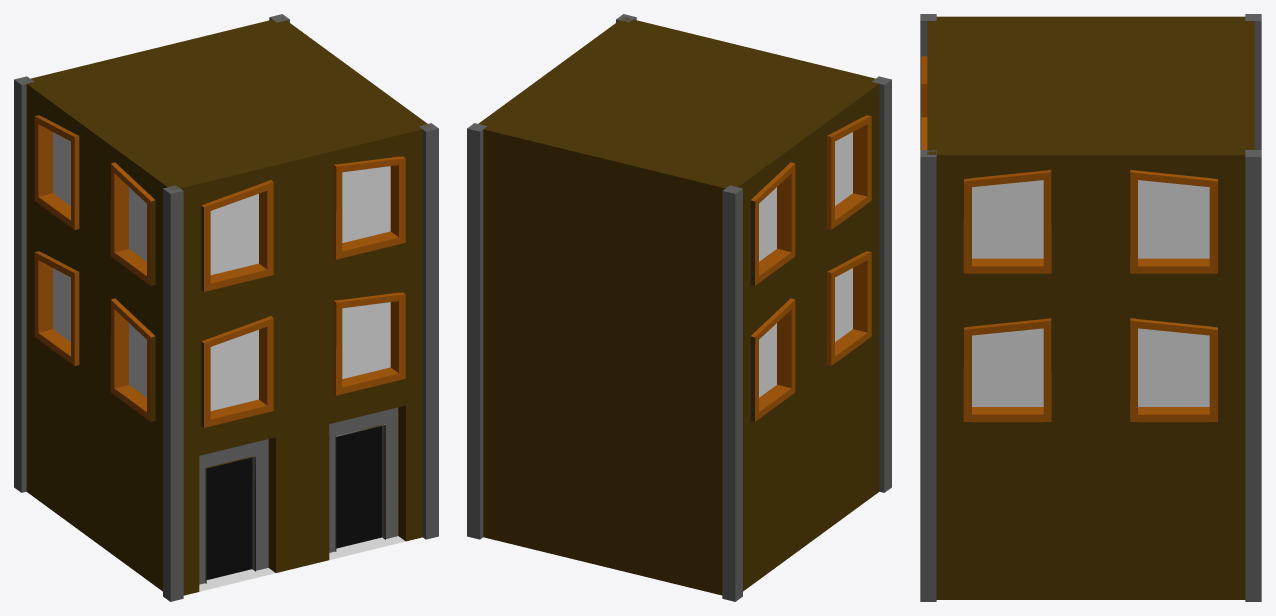
Rendered from haz1 fbx.fbx.
The picture shows the model from 3 angles, left to right: view 1: azimuth 30°, elevation 25°; view 2: azimuth 150°, elevation 25°; view 3: azimuth 270°, elevation 25°; orthographic projection. The views are drawn at different scales.
Parts seen in each view (by area): view 1: teto, also oldalfal, ablak.003, ablak.001, ablak, ablak.002, Sarokoszlop.003, ajto2.005, ajto2, Sarokoszlop.001, ablak.009, ablak.011 (+24 smaller); view 2: hatso fal, teto, also oldalfal, Sarokoszlop.002, Sarokoszlop, ablak.008, ablak.010, Sarokoszlop.003, ablak.011, ablak.009, ablakkeret.008, ablakkeret.010 (+6 smaller); view 3: also oldalfal.001, teto, ablak.006, ablak.007, ablak.004, ablak.005, Sarokoszlop, Sarokoszlop.001, uveg.006, uveg.007, uveg.004, uveg.005 (+6 smaller).
Part boxes in pixels (box(x1,y1,x2,y2)): teto: box(27, 19, 429, 189); also oldalfal: box(26, 356, 162, 591); ablak.003: box(180, 159, 302, 323); ablak.001: box(183, 295, 302, 459); ablak: box(302, 265, 422, 430); ablak.002: box(302, 129, 422, 294); Sarokoszlop.003: box(163, 185, 183, 601); ajto2.005: box(302, 401, 422, 566); ajto2: box(183, 431, 302, 595); Sarokoszlop.001: box(419, 123, 438, 539); ablak.009: box(26, 220, 97, 406); ablak.011: box(26, 84, 97, 270); hatso fal: box(483, 129, 725, 595); teto: box(478, 17, 879, 188); also oldalfal: box(743, 356, 879, 591); Sarokoszlop.002: box(722, 185, 742, 601); Sarokoszlop: box(467, 123, 486, 539); ablak.008: box(808, 220, 879, 406); ablak.010: box(808, 84, 879, 270); Sarokoszlop.003: box(872, 76, 891, 492); ablak.011: box(738, 136, 808, 319); ablak.009: box(743, 272, 808, 455); ablakkeret.008: box(826, 251, 871, 365); ablakkeret.010: box(826, 115, 871, 229); also oldalfal.001: box(936, 451, 1245, 599); teto: box(927, 16, 1254, 154); ablak.006: box(936, 155, 1090, 303); ablak.007: box(1091, 155, 1245, 303); ablak.004: box(936, 303, 1090, 451); ablak.005: box(1091, 303, 1245, 451); Sarokoszlop: box(1245, 150, 1261, 601); Sarokoszlop.001: box(920, 150, 936, 601); uveg.006: box(972, 180, 1043, 258); uveg.007: box(1138, 180, 1209, 258); uveg.004: box(972, 328, 1043, 406); uveg.005: box(1138, 328, 1209, 406).
Bounding box in the file's own units: 207 × 300 × 209.
